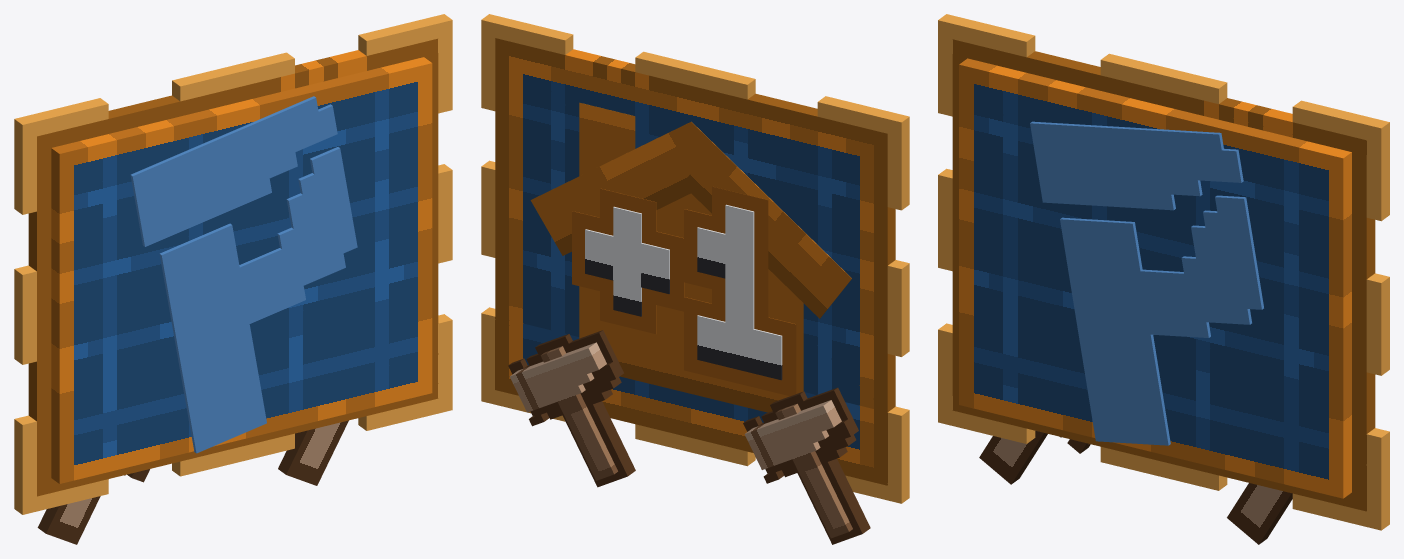
The picture shows the model from 3 angles, left to right: view 1: azimuth 30°, elevation 25°; view 2: azimuth 150°, elevation 25°; view 3: azimuth 330°, elevation 25°; orthographic projection. The views are drawn at different scales.
Parts seen in each view (by area): view 1: plan-Local, backp-Local, skull02-Local, skull3-Local; view 2: plan-Local, icon_border-Local, icon-Local, house_body-Local, skull02-Local, skull3-Local, house_roof_2-Local, house_roof_1-Local; view 3: plan-Local, backp-Local, skull02-Local, skull3-Local.
Part boxes in pixels (bbox=[...]): plan-Local: bbox=[14, 14, 452, 514]; backp-Local: bbox=[130, 96, 357, 453]; skull02-Local: bbox=[278, 420, 348, 485]; skull3-Local: bbox=[37, 469, 149, 544]; plan-Local: bbox=[481, 14, 909, 503]; icon_border-Local: bbox=[572, 186, 796, 396]; icon-Local: bbox=[585, 204, 782, 380]; house_body-Local: bbox=[579, 102, 803, 412]; skull02-Local: bbox=[508, 330, 635, 487]; skull3-Local: bbox=[743, 387, 870, 544]; house_roof_2-Local: bbox=[675, 121, 851, 318]; house_roof_1-Local: bbox=[530, 122, 697, 255]; plan-Local: bbox=[938, 14, 1389, 530]; backp-Local: bbox=[1030, 121, 1263, 445]; skull02-Local: bbox=[1227, 483, 1292, 544]; skull3-Local: bbox=[979, 431, 1090, 484].
Bounding box in the file's own units: 60 × 58.83 × 7.52.
Materials: 9 (9 with a texture image).
